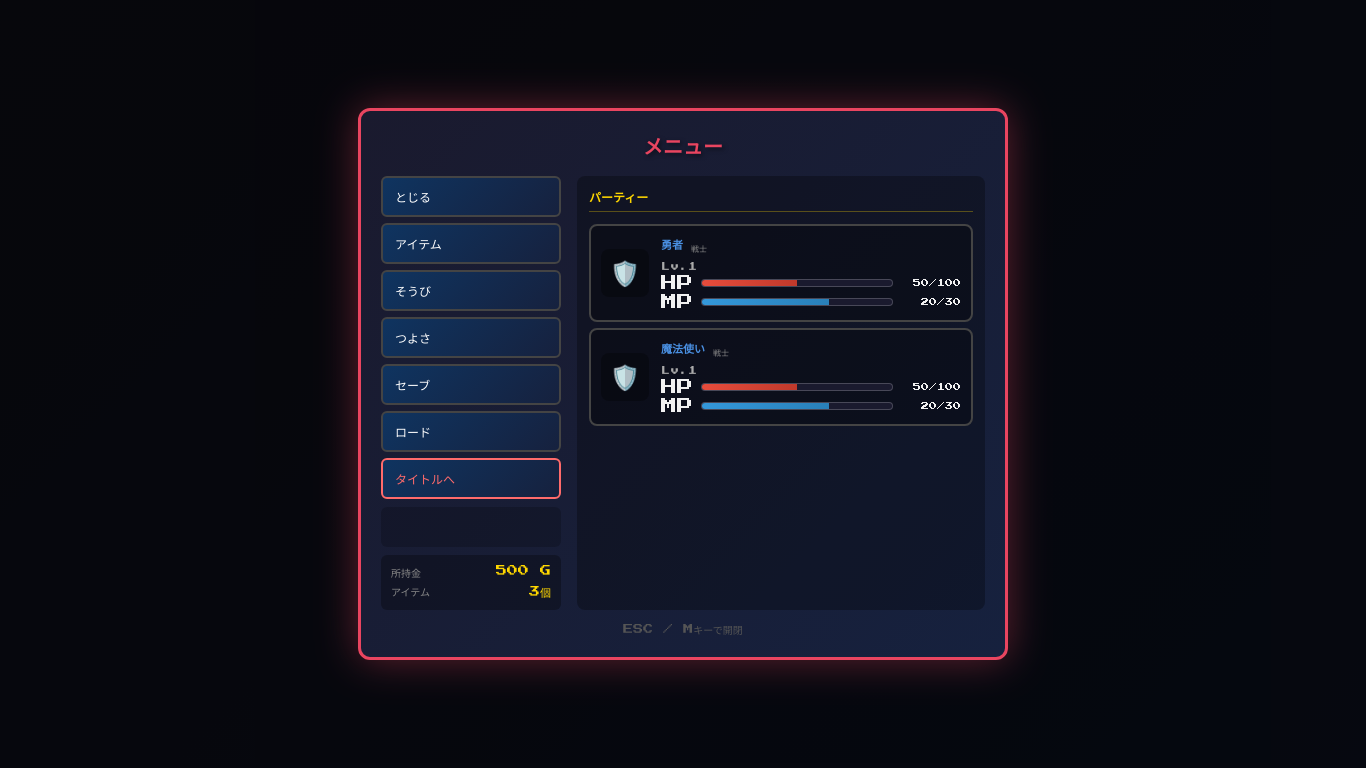
Test case: PauseMenu › アイテム画面 › アイテム画面から「もどる」でメインメニューに戻る
Click the button "アイテム": (471, 244) 381,223 -> 561,264
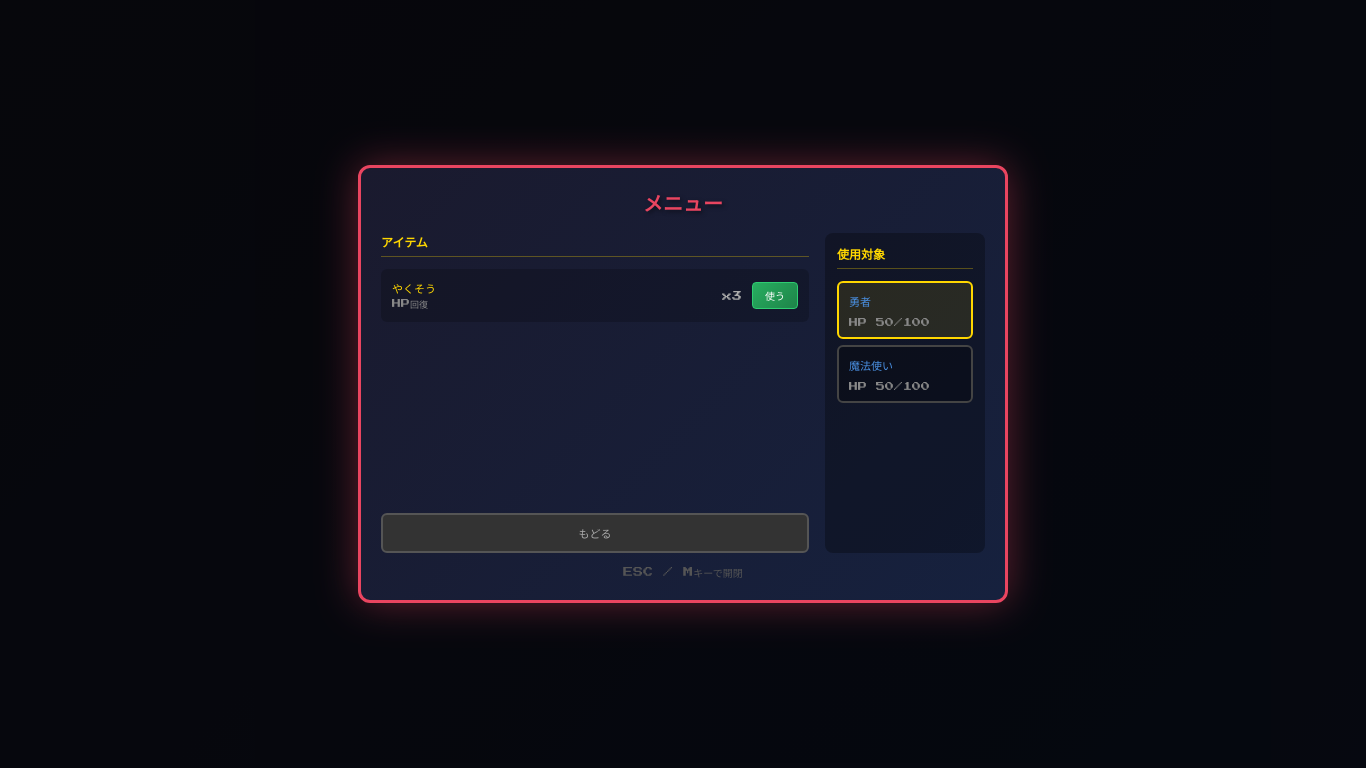
Click the button "もどる": (595, 533) 381,513 -> 809,553
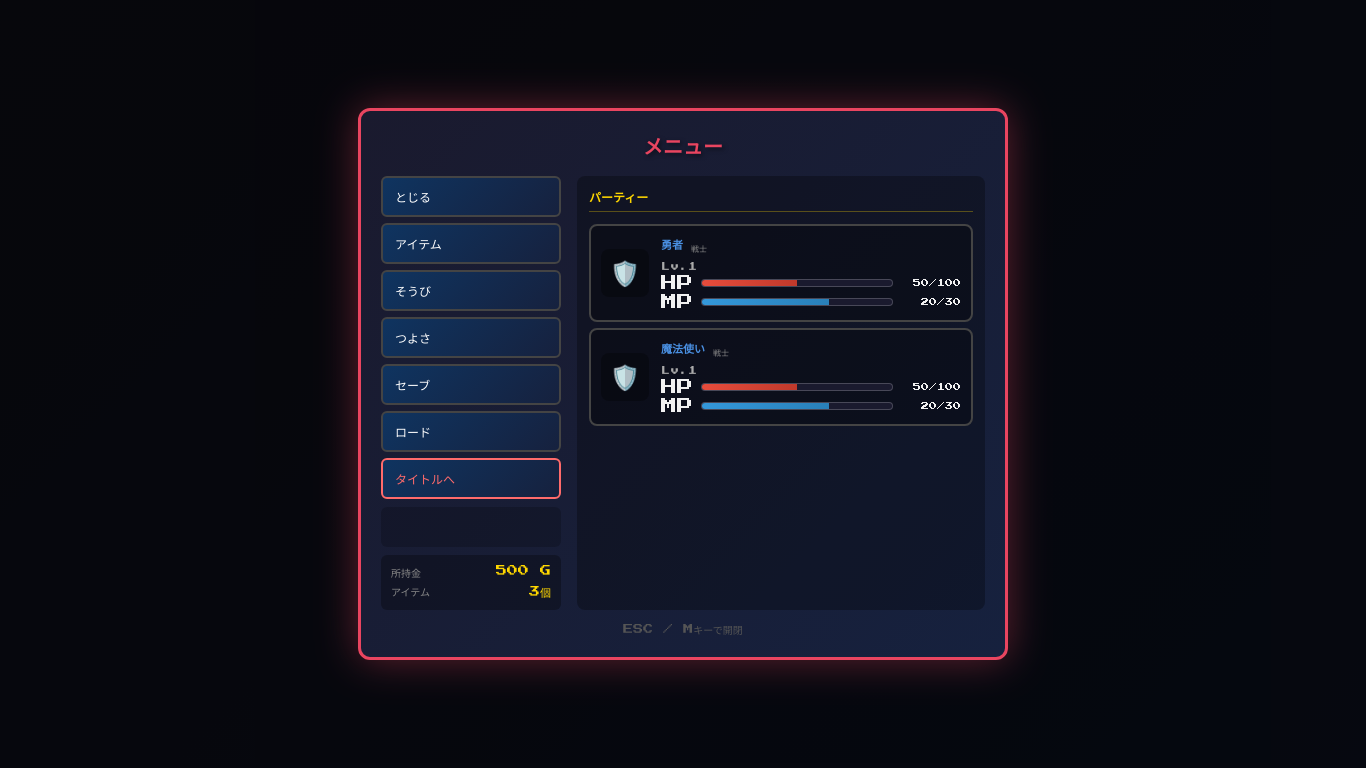
Result: the button "アイテム" is shown at 381,223 -> 561,264
